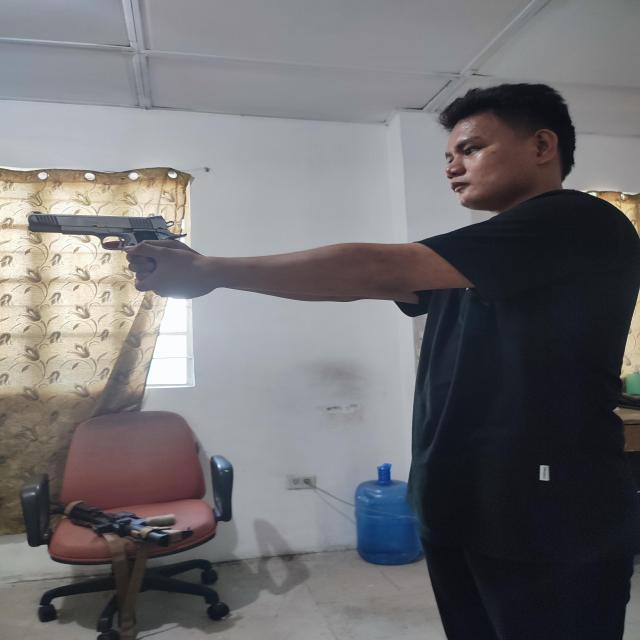pistol: (28, 211, 187, 257)
